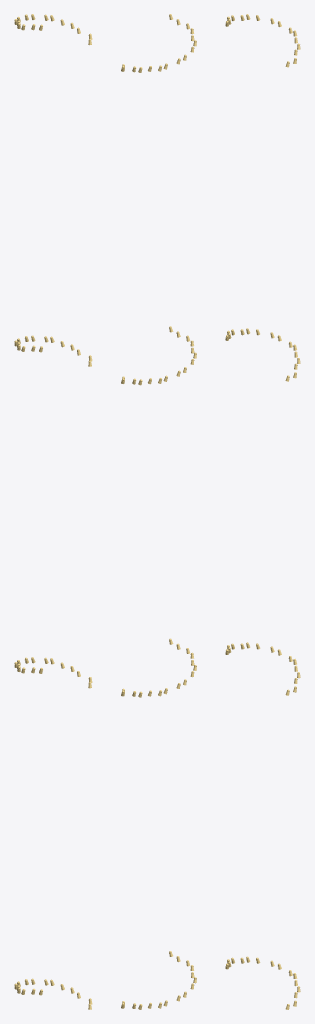
File: Circle8Crowd5.obj
3 renders of one model, left to right at view 1: azimuth 30°, elevation 25°; view 2: azimuth 210°, elevation 25°; view 3: azimuth 330°, elevation 25°, orthographic. The views are drawn at different scales.
Visible parts, largest first — view 1: Circle8Crowd5; view 2: Circle8Crowd5; view 3: Circle8Crowd5.
Boxes of the visible parts, box(x1,y1,x2,y2) form: Circle8Crowd5: box(14, 14, 92, 1009); Circle8Crowd5: box(121, 14, 196, 1009); Circle8Crowd5: box(225, 14, 300, 1009).
Size of the model in its own units: 27.62 by 374 by 22.17.
Materials: 1 (1 with a texture image).
